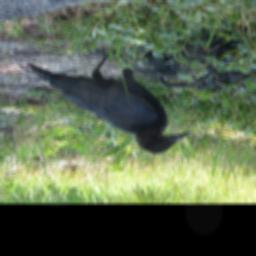Crow: (17, 49, 190, 155)
